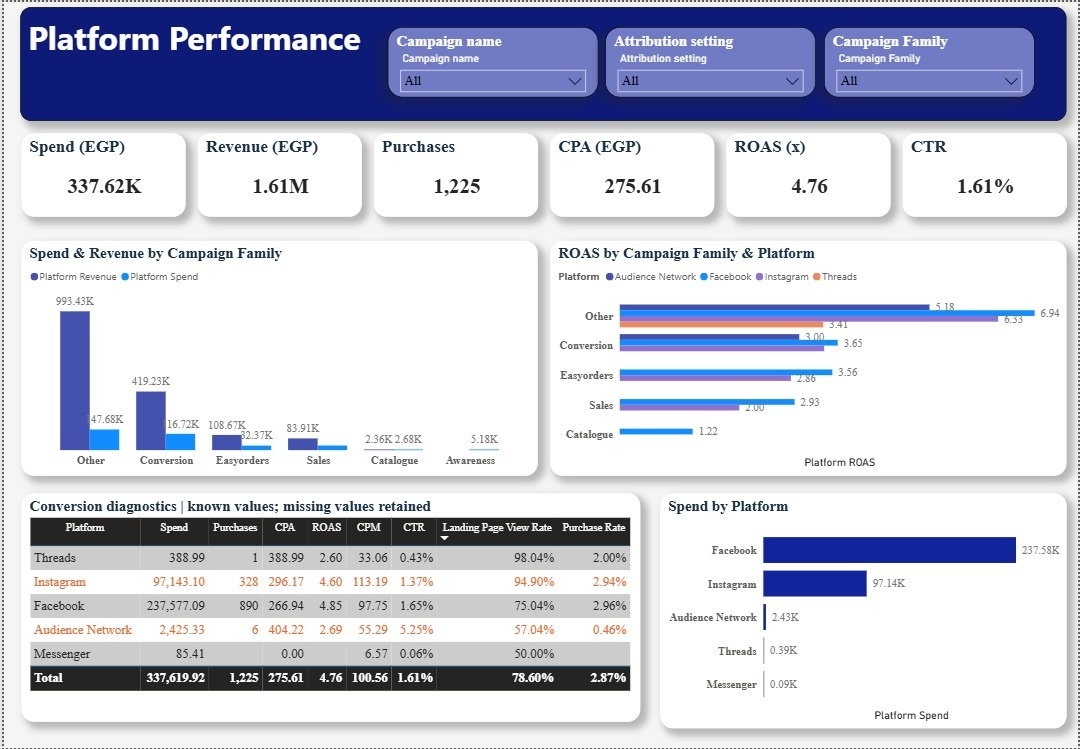

The dashboard page shown, as its layout file describes it:
{"tool":"powerbi","page":{"name":"Platform","canvas":[1440,1000],"ordinal":1},"visuals":[{"type":"group","id":"g1","title":"Group 5","box":[21.8,6.7,1402.5,152.5],"z":0},{"type":"textbox","box":[21.8,6.7,1402.5,152.5],"z":0,"group":"g1"},{"type":"card","title":"Spend (EGP)","fields":{"Values":["Platform.Platform Spend"]},"box":[23.5,175.9,219.9,112.3],"z":0,"group":"g4"},{"type":"clusteredColumnChart","title":"Spend & Revenue by Campaign Family ","fields":{"Category":["Platform.Campaign Family"],"Y":["Platform.Platform Revenue","Platform.Platform Spend"]},"box":[23.5,320,692,315],"z":0,"group":"g6"},{"type":"group","id":"g2","title":"Group 3","box":[515,33.2,866.5,94.5],"z":1000,"group":"g1"},{"type":"slicer","title":"Campaign name","fields":{"Values":["Platform.Campaign name"]},"box":[515,33.2,282.1,94.5],"z":1000,"group":"g2"},{"type":"card","title":"Revenue (EGP)","fields":{"Values":["Platform.Platform Revenue"]},"box":[259.7,175.9,219.9,112.3],"z":1000,"group":"g4"},{"type":"clusteredBarChart","title":"ROAS by Campaign Family & Platform","fields":{"Category":["Platform.Campaign Family"],"Series":["Platform.Platform"],"Y":["Platform.Platform ROAS"]},"box":[732.3,320,692,315],"z":1000,"group":"g6"},{"type":"group","id":"g3","title":"Group 1","box":[23.5,658.5,829.4,306.6],"z":1000,"group":"g5"},{"type":"slicer","title":"Attribution setting","fields":{"Values":["Platform.Attribution setting"]},"box":[807.2,33.2,282.1,94.5],"z":2000,"group":"g2"},{"type":"group","id":"g4","title":"Group 2","box":[23.5,175.9,1400.8,112.3],"z":2000},{"type":"card","title":"Purchases","fields":{"Values":["Platform.Platform Purchases"]},"box":[495.9,175.9,219.9,112.3],"z":2000,"group":"g4"},{"type":"group","id":"g5","title":"Group 4","box":[23.5,658.5,1400.8,315],"z":2000,"group":"g6"},{"type":"slicer","title":"Campaign Family","fields":{"Values":["Platform.Campaign Family"]},"box":[1099.4,33.2,282.1,94.5],"z":3000,"group":"g2"},{"type":"card","title":"CPA (EGP)","fields":{"Values":["Platform.Platform CPA"]},"box":[732.1,175.9,219.9,112.3],"z":3000,"group":"g4"},{"type":"card","title":"ROAS (x)","fields":{"Values":["Platform.Platform ROAS"]},"box":[968.2,175.9,219.9,112.3],"z":4000,"group":"g4"},{"type":"card","title":"CTR","fields":{"Values":["Platform.Platform CTR"]},"box":[1204.4,175.9,219.9,112.3],"z":6000,"group":"g4"},{"type":"barChart","title":"Spend by Platform","fields":{"Category":["Platform.Platform"],"Y":["Platform.Platform Spend"]},"box":[879.7,658.5,544.6,315],"z":8000,"group":"g5"},{"type":"tableEx","title":"Conversion diagnostics | known values; missing values retained","fields":{"Values":["Platform.Platform","Platform.Platform Spend","Platform.Platform Purchases","Platform.Platform CPA","Platform.Platform ROAS","Platform.Platform CPM","Platform.Platform CTR","Platform.Platform Landing Page View Rate","Platform.Platform Purchase Rate"]},"box":[23.5,658.5,829.4,306.6],"z":10000,"group":"g3"},{"type":"group","id":"g6","title":"Group 6","box":[23.5,320,1400.8,653.5],"z":11002}]}

Visuals, with their boxes in screenshot pixels (x1, y1, x2, y2), scaled from the page's 1440x1000 canvas onto the 1080x749 screenshot:
"Group 5" group: box=[16, 5, 1068, 119]
textbox: box=[16, 5, 1068, 119]
"Spend (EGP)" card: box=[18, 132, 183, 216]
"Spend & Revenue by Campaign Family " clusteredColumnChart: box=[18, 240, 537, 476]
"Group 3" group: box=[386, 25, 1036, 96]
"Campaign name" slicer: box=[386, 25, 598, 96]
"Revenue (EGP)" card: box=[195, 132, 360, 216]
"ROAS by Campaign Family & Platform" clusteredBarChart: box=[549, 240, 1068, 476]
"Group 1" group: box=[18, 493, 640, 723]
"Attribution setting" slicer: box=[605, 25, 817, 96]
"Group 2" group: box=[18, 132, 1068, 216]
"Purchases" card: box=[372, 132, 537, 216]
"Group 4" group: box=[18, 493, 1068, 729]
"Campaign Family" slicer: box=[825, 25, 1036, 96]
"CPA (EGP)" card: box=[549, 132, 714, 216]
"ROAS (x)" card: box=[726, 132, 891, 216]
"CTR" card: box=[903, 132, 1068, 216]
"Spend by Platform" barChart: box=[660, 493, 1068, 729]
"Conversion diagnostics | known values; missing values retained" tableEx: box=[18, 493, 640, 723]
"Group 6" group: box=[18, 240, 1068, 729]
